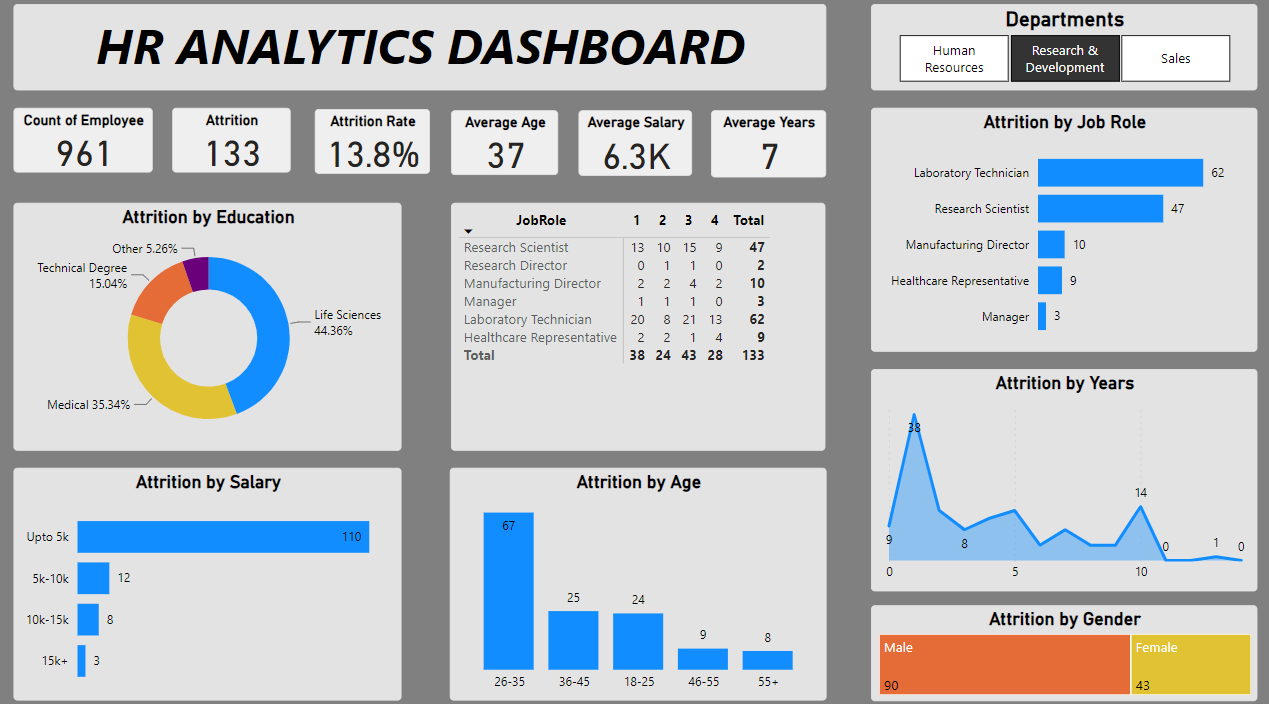

Layout of this report page (visuals, bound fields, positions):
{"tool":"powerbi","page":{"name":"Page 1","canvas":[1280,720],"ordinal":0},"visuals":[{"type":"card","title":"Count of Employee","fields":{"Values":["CountNonNull(HR_Analytics.EmpID)"]},"box":[17,113.8,139.4,64.9],"z":0},{"type":"card","title":"Attrition","fields":{"Values":["Sum(HR_Analytics.AttritionCount)"]},"box":[176.6,113.8,118.1,64.9],"z":1000},{"type":"card","title":"Attrition Rate","fields":{"Values":["HR_Analytics.AttritionRate"]},"box":[319.1,114.9,114.9,64.9],"z":2000},{"type":"card","title":"Average Age ","fields":{"Values":["Avg(HR_Analytics.Age)"]},"box":[455.3,116,107.4,64.9],"z":3000},{"type":"card","title":"Average Salary","fields":{"Values":["Avg(HR_Analytics.MonthlyIncome)"]},"box":[583,116,113.8,66],"z":4000},{"type":"card","title":"Average Years ","fields":{"Values":["Avg(HR_Analytics.YearsAtCompany)"]},"box":[714.9,116,114.9,67],"z":5000},{"type":"donutChart","title":"Attrition by Education","fields":{"Category":["HR_Analytics.EducationField"],"Y":["Sum(HR_Analytics.AttritionCount)"]},"box":[17,208.5,388.3,247.9],"z":6000},{"type":"columnChart","title":"Attrition by Age","fields":{"Category":["HR_Analytics.AgeGroup"],"Y":["Sum(HR_Analytics.AttritionCount)"]},"box":[453.2,473.4,376.6,233],"z":7000},{"type":"pivotTable","fields":{"Rows":["HR_Analytics.JobRole"],"Columns":["HR_Analytics.JobSatisfaction"],"Values":["Sum(HR_Analytics.AttritionCount)"]},"box":[455.3,208.5,374.5,247.9],"z":8000},{"type":"barChart","title":"Attrition by Salary","fields":{"Category":["HR_Analytics.SalarySlab"],"Y":["Sum(HR_Analytics.AttritionCount)"]},"box":[17,473.4,388.3,233],"z":9000},{"type":"barChart","title":"Attrition by Job Role","fields":{"Category":["HR_Analytics.JobRole"],"Y":["Sum(HR_Analytics.AttritionCount)"]},"box":[875.5,113.8,386.2,243.6],"z":10000},{"type":"areaChart","title":"Attrition by Years","fields":{"Category":["HR_Analytics.YearsAtCompany"],"Y":["Sum(HR_Analytics.AttritionCount)"]},"box":[875,375,386.2,222.5],"z":11000},{"type":"treemap","title":"Attrition by Gender","fields":{"Group":["HR_Analytics.Gender"],"Values":["Sum(HR_Analytics.AttritionCount)"]},"box":[875.5,610.6,386.2,95.7],"z":12000},{"type":"slicer","title":"Departments","fields":{"Values":["HR_Analytics.Department"]},"box":[875.5,9.6,386.2,86.2],"z":13000},{"type":"textbox","box":[17,9.6,812.8,86.2],"z":14000}]}

Visuals, with their boxes in screenshot pixels (x1, y1, x2, y2), scaled from the page's 1280x720 canvas onto the 1269x704 screenshot:
"Count of Employee" card: l=17, t=111, r=155, b=175
"Attrition" card: l=175, t=111, r=292, b=175
"Attrition Rate" card: l=316, t=112, r=430, b=176
"Average Age " card: l=451, t=113, r=558, b=177
"Average Salary" card: l=578, t=113, r=691, b=178
"Average Years " card: l=709, t=113, r=823, b=179
"Attrition by Education" donutChart: l=17, t=204, r=402, b=446
"Attrition by Age" columnChart: l=449, t=463, r=823, b=691
pivotTable - HR_Analytics.JobRole x HR_Analytics.JobSatisfaction: l=451, t=204, r=823, b=446
"Attrition by Salary" barChart: l=17, t=463, r=402, b=691
"Attrition by Job Role" barChart: l=868, t=111, r=1251, b=349
"Attrition by Years" areaChart: l=867, t=367, r=1250, b=584
"Attrition by Gender" treemap: l=868, t=597, r=1251, b=691
"Departments" slicer: l=868, t=9, r=1251, b=94
textbox: l=17, t=9, r=823, b=94
